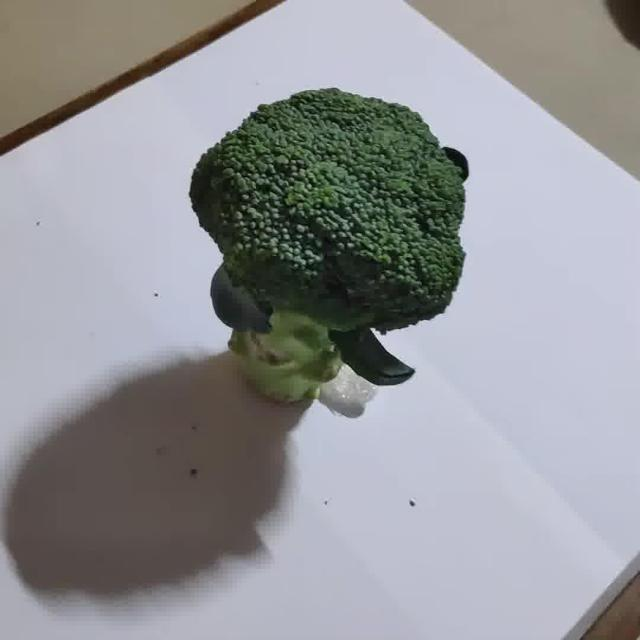Broccoli: (190, 88, 468, 412)
